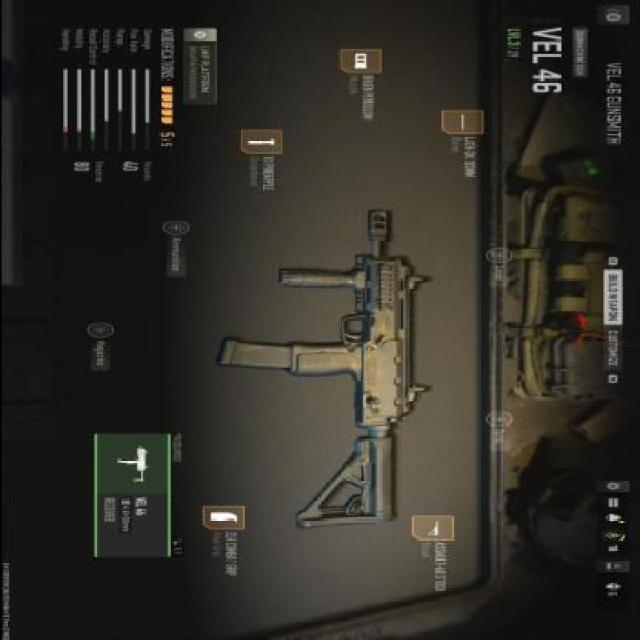weapon: (214, 206, 432, 528)
